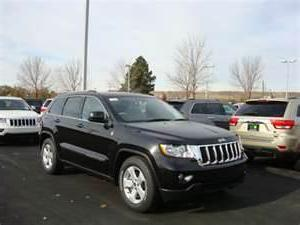Car: (27, 82, 256, 220), (228, 99, 300, 168), (1, 92, 42, 149)
